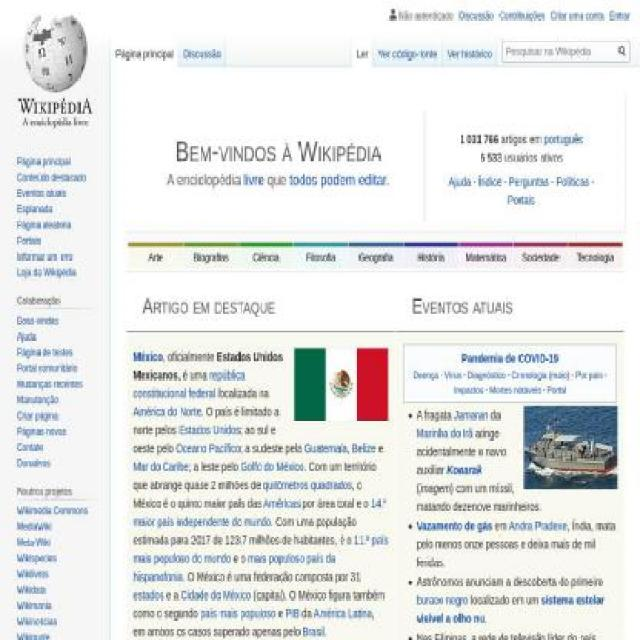button: (372, 33, 443, 67), (111, 33, 178, 67), (442, 33, 498, 67), (178, 33, 227, 67), (352, 33, 373, 67), (599, 94, 623, 108)
field: (502, 40, 630, 63), (614, 41, 629, 62)
